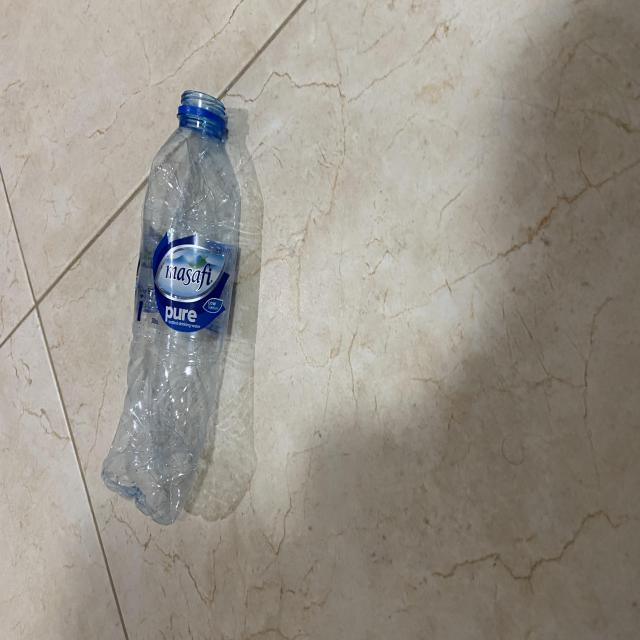bottle: (102, 81, 244, 525)
